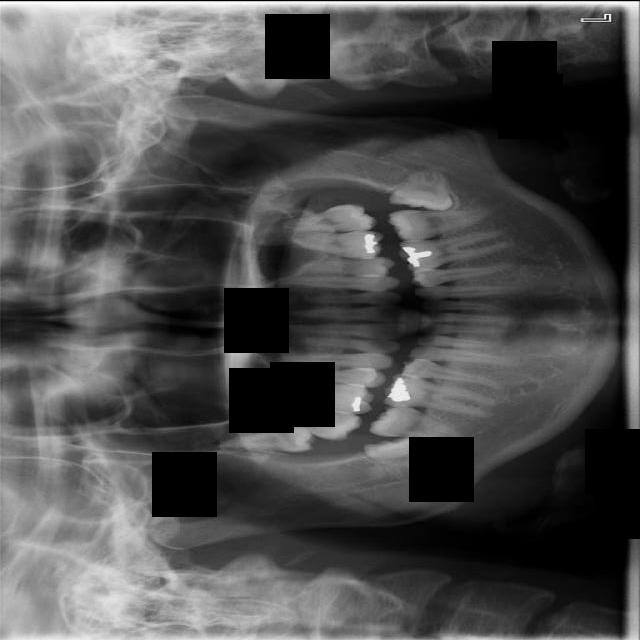3M ESPE Implant: (219, 424, 317, 455)
52: (393, 230, 441, 279), (380, 365, 425, 414), (332, 380, 375, 416), (343, 365, 387, 389), (353, 230, 382, 259)
73: (590, 32, 600, 39)
BioHorizons Implant: (279, 200, 378, 239)
Biomet 3i Implant: (389, 168, 456, 212)
Blue Sky Bio Implant: (387, 205, 490, 242)
Caries: (256, 405, 363, 440)
Implant: (369, 399, 474, 447)
Keystone Dental Implant: (363, 432, 430, 485)
